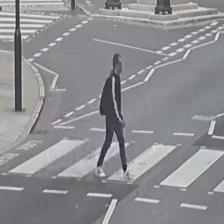person: (94, 52, 131, 178)
